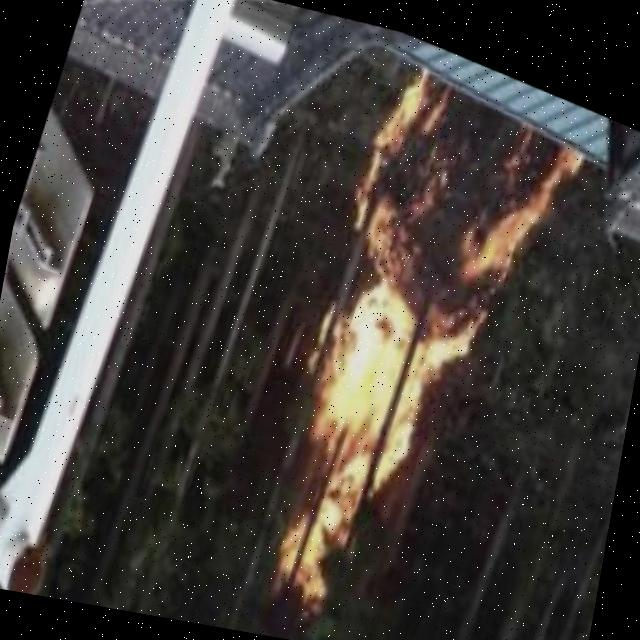fire: (209, 39, 599, 640)
